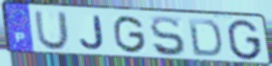D: (186, 18, 224, 59)
G: (227, 19, 264, 63), (113, 15, 148, 55)
J: (78, 15, 106, 52)
S: (148, 15, 188, 58)
U: (33, 10, 71, 52)
